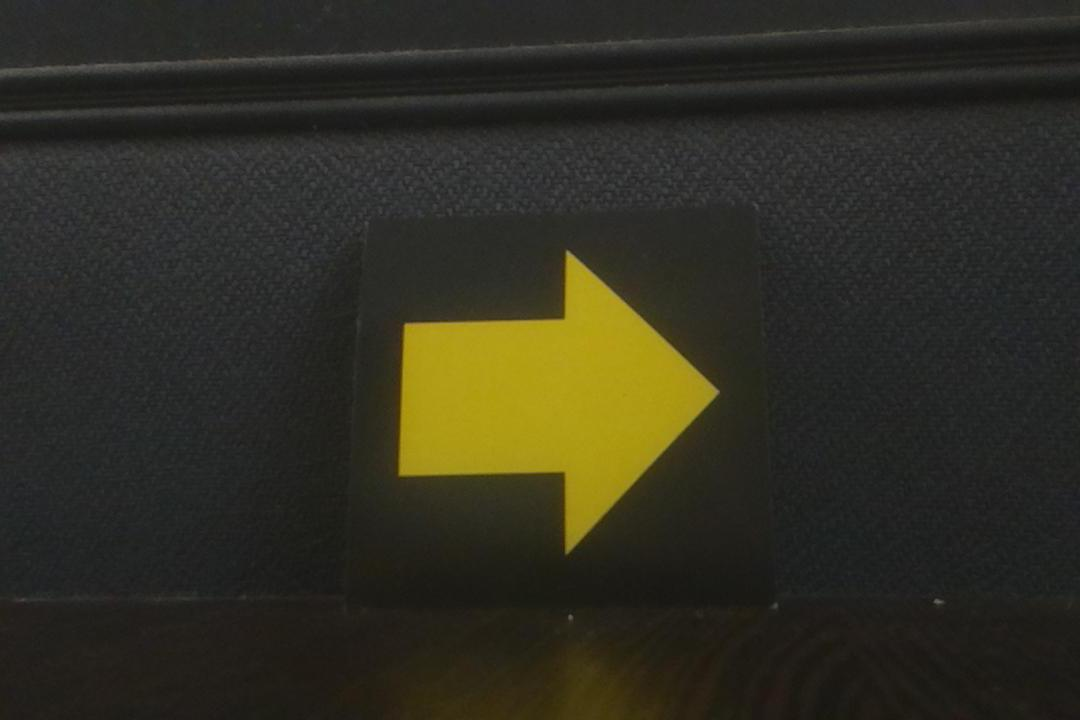right: (362, 219, 767, 607)
